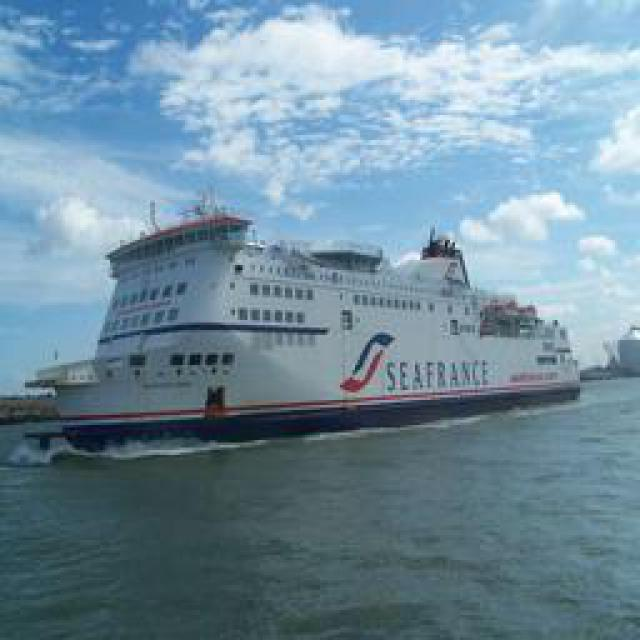Ship: (30, 204, 588, 444)
